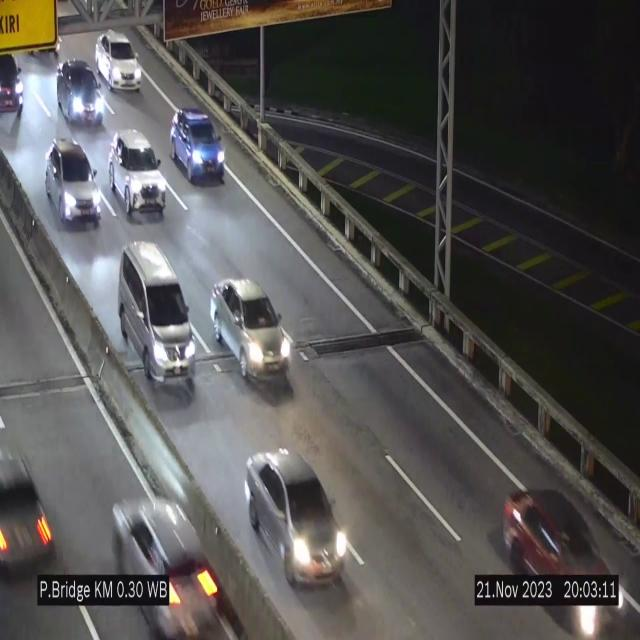Car: (493, 459, 619, 633), (100, 474, 223, 640), (243, 446, 350, 588), (0, 413, 68, 586), (118, 242, 196, 385), (210, 279, 292, 385), (109, 129, 166, 218), (46, 139, 100, 225), (170, 108, 226, 183), (59, 60, 105, 127), (95, 32, 142, 90)
